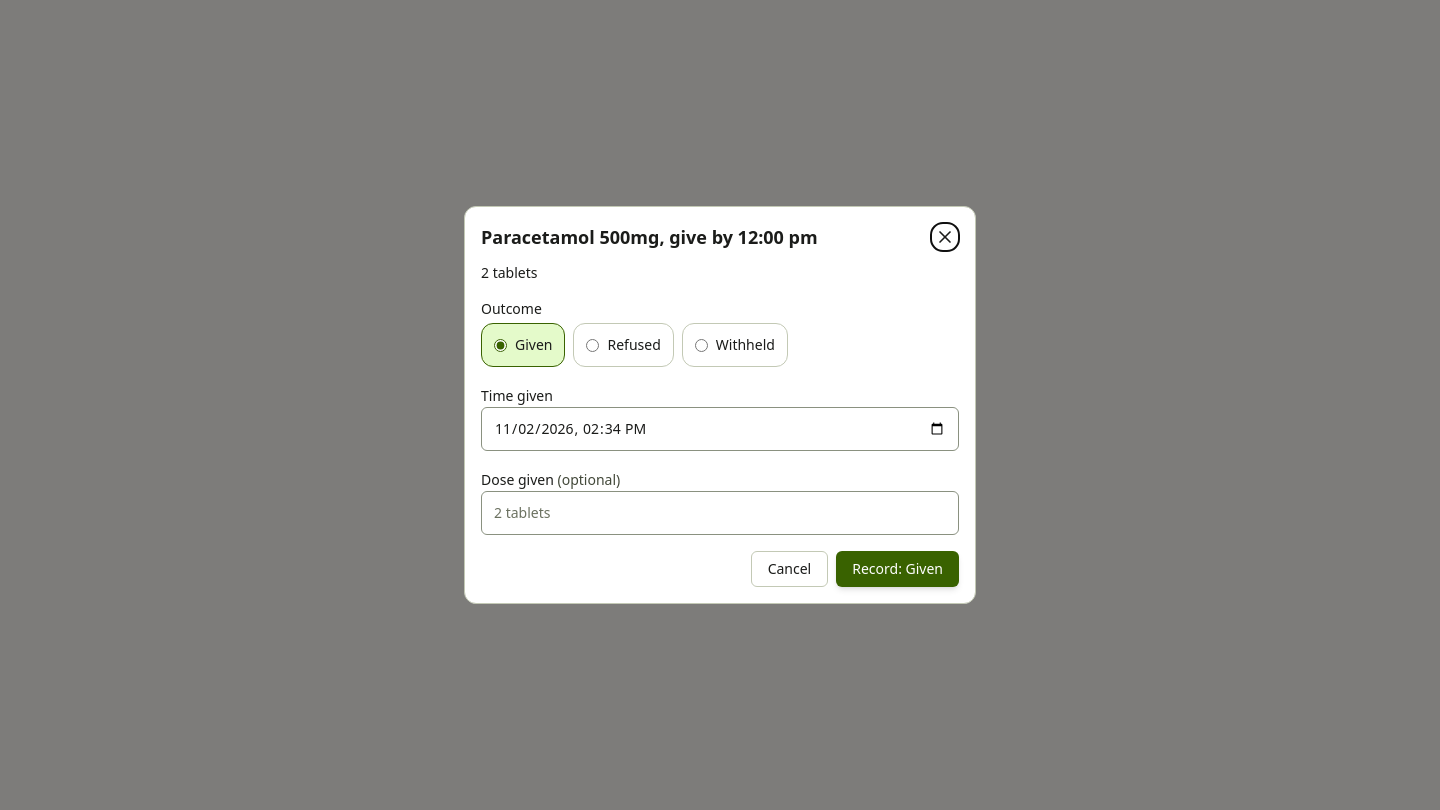
DoseSheet: competency, errors, offline › shows the server message on a 403 competency refusal and keeps the sheet open
Click the button "Record: Given" at (898, 569), box [836,551,959,587]
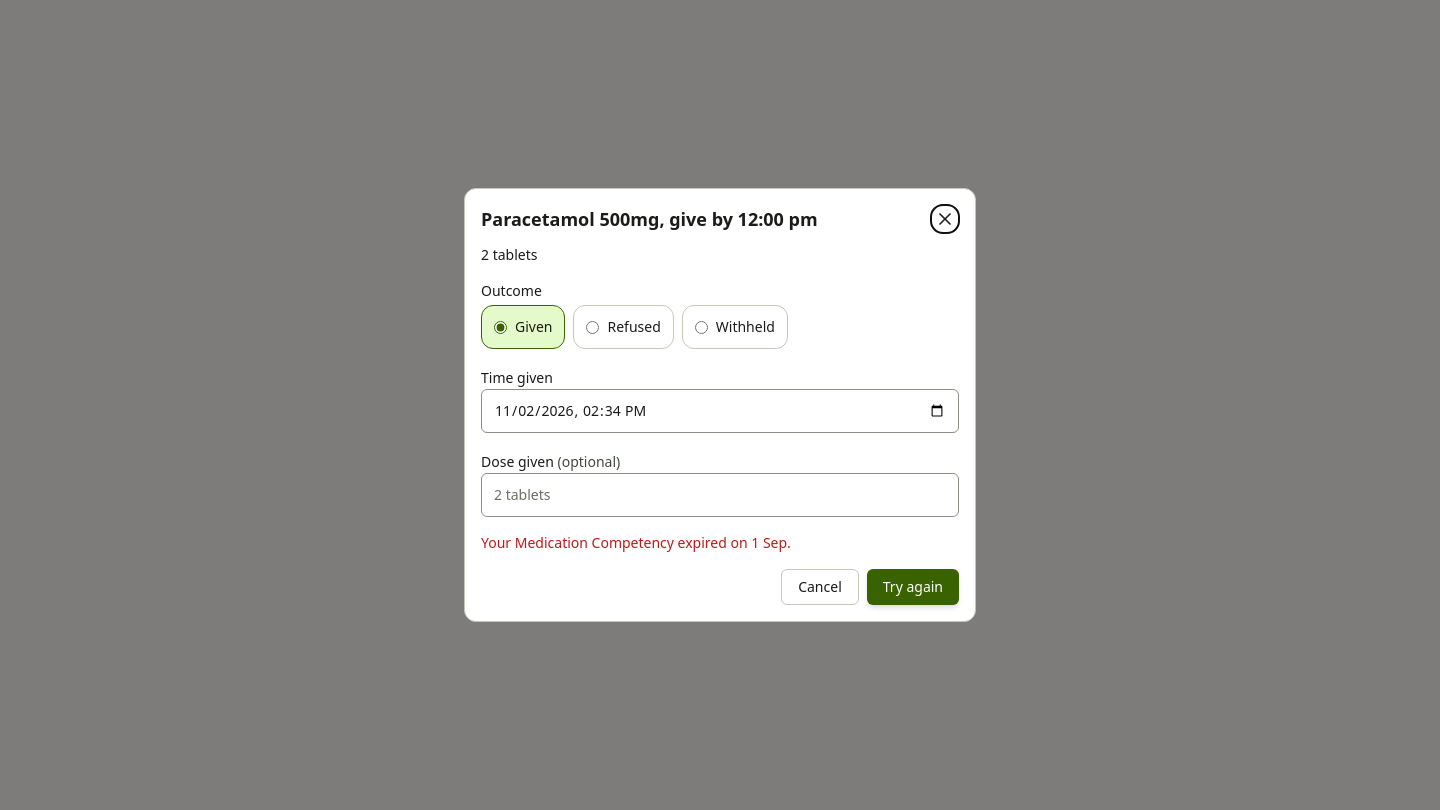
Expected: the message reads "Your Medication Competency expired on 1 Sep.", [481,533,791,552]
